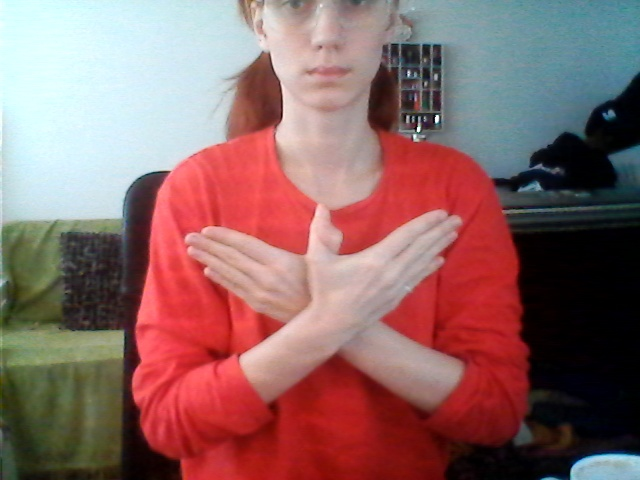lekar: (183, 206, 475, 339)
